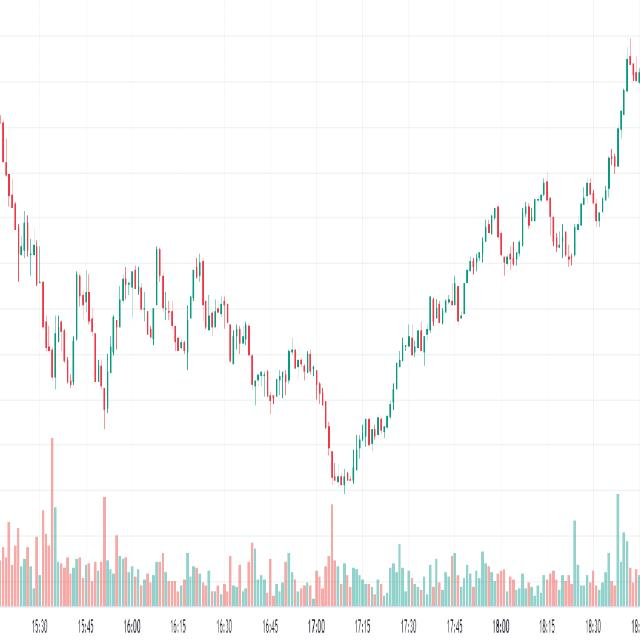Descending-Triangle: (113, 141, 285, 371)
Double-Bottom: (35, 293, 82, 396)
Double-Top: (68, 255, 101, 354)
